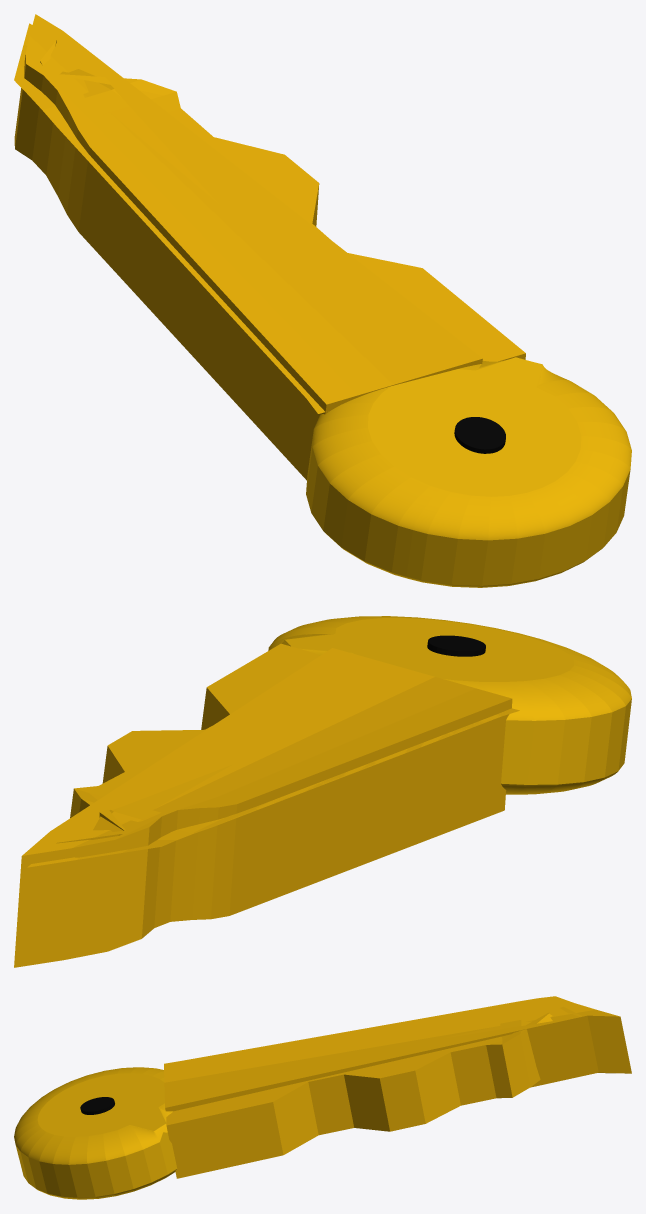
The model's file is key (1).fbx.
3 renders of one model, top to bottom at view 1: azimuth 30°, elevation 25°; view 2: azimuth 150°, elevation 25°; view 3: azimuth 270°, elevation 25°, orthographic. The views are drawn at different scales.
Visible parts, largest first — view 1: Plane, Cylinder, Cylinder.001; view 2: Plane, Cylinder, Cylinder.001; view 3: Plane, Cylinder, Cylinder.001.
Part boxes in pixels (x1=…): Plane: x1=14, y1=14, x2=525, y2=480; Cylinder: x1=306, y1=357, x2=631, y2=587; Cylinder.001: x1=454, y1=417, x2=505, y2=453; Plane: x1=14, y1=643, x2=519, y2=967; Cylinder: x1=268, y1=616, x2=631, y2=794; Cylinder.001: x1=427, y1=635, x2=485, y2=656; Plane: x1=164, y1=996, x2=631, y2=1178; Cylinder: x1=14, y1=1067, x2=177, y2=1199; Cylinder.001: x1=80, y1=1097, x2=114, y2=1114.
Bounding box in the file's own units: 322 × 257 × 957.
